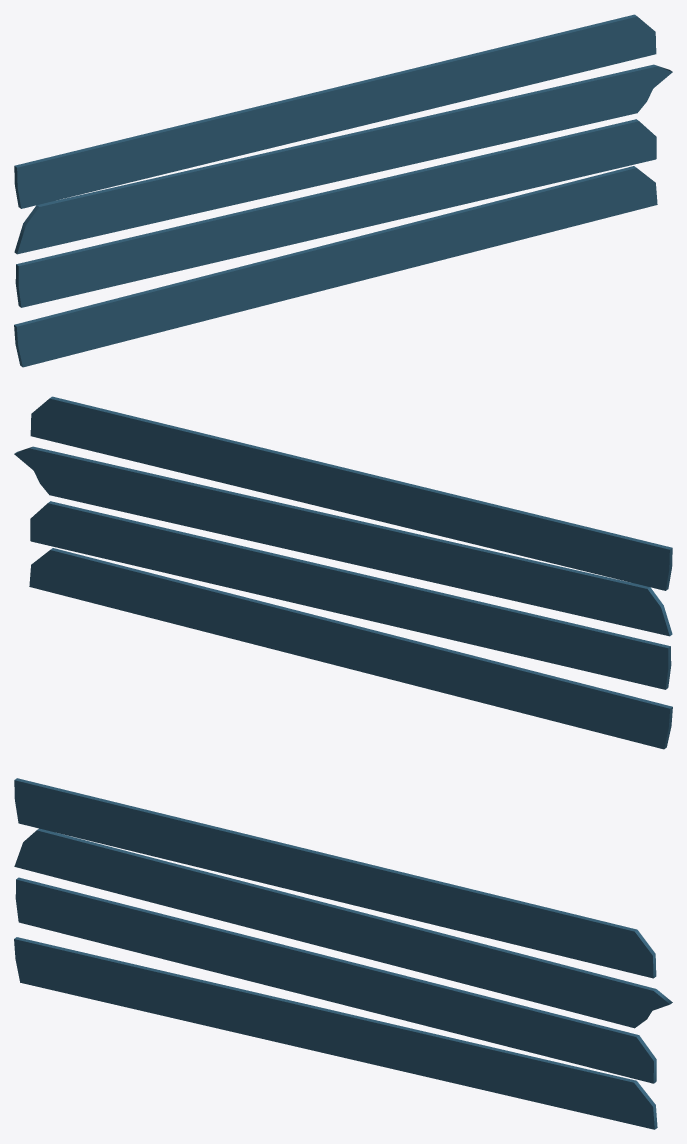
Rendered from Boards_Blocker_03.fbx.
3 views of the same model, one above another, from view 1: azimuth 30°, elevation 25°; view 2: azimuth 150°, elevation 25°; view 3: azimuth 330°, elevation 25° (orthographic).
Parts seen in each view (by area): view 1: Boards_Blocker_03; view 2: Boards_Blocker_03; view 3: Boards_Blocker_03.
Part boxes in pixels (x1=…): Boards_Blocker_03: x1=14, y1=14, x2=672, y2=367; Boards_Blocker_03: x1=14, y1=396, x2=672, y2=749; Boards_Blocker_03: x1=14, y1=778, x2=672, y2=1129.
Bounding box in the file's own units: 381 × 112 × 2.78.
